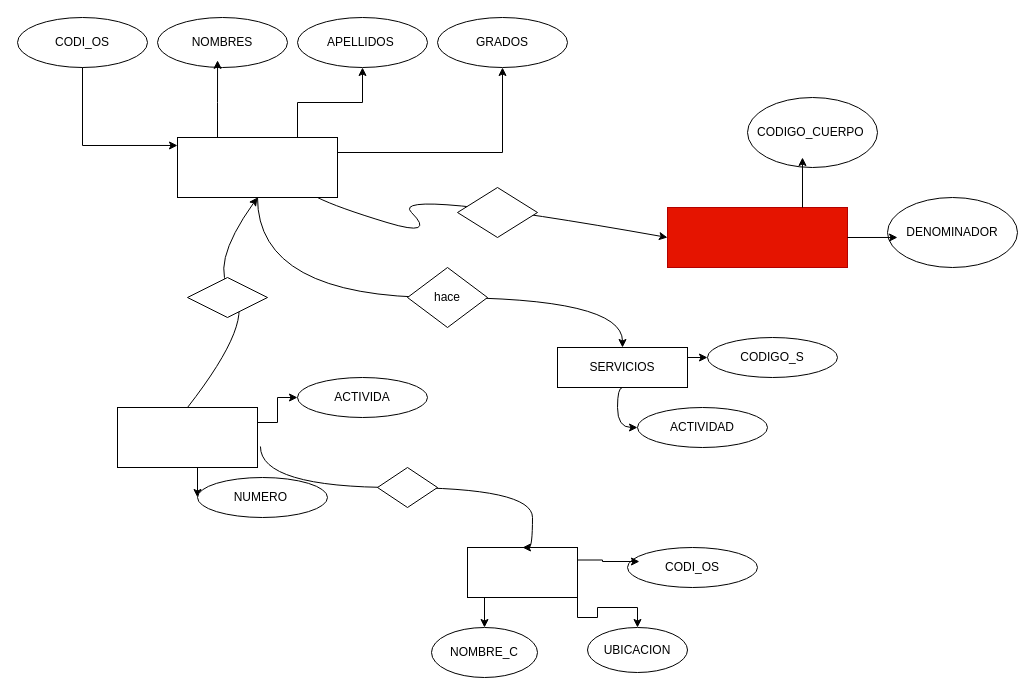
Image size: 1035x695. Some labels were removed from this diagram. The centre of each missing label's shape, as x and y in pixels:
COMPAÑIA: (x=187, y=437)
CUARTELES: (x=522, y=572)
CUERPO E: (x=757, y=237)
hace parte: (x=227, y=297)
pertenece: (x=497, y=212)
SOLDADO: (x=257, y=167)
tiene: (x=407, y=487)
